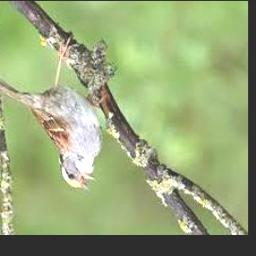Sparrow: (0, 34, 103, 192)
